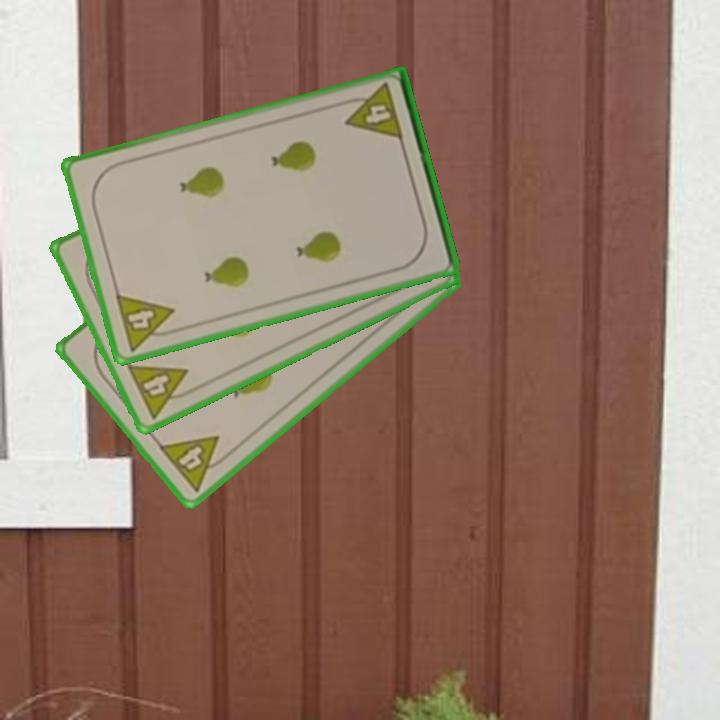4p: (155, 432, 235, 495), (123, 361, 199, 422), (111, 290, 182, 354), (338, 79, 406, 144)
